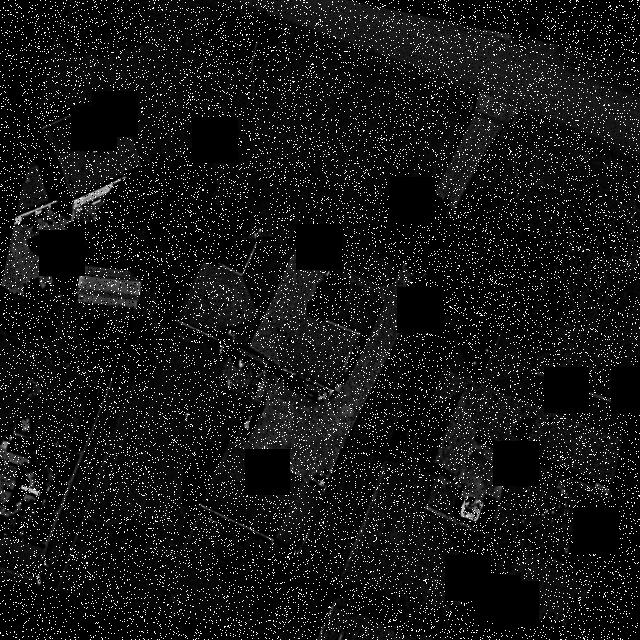Driveway: (234, 115, 503, 481)
Extra Driveway: (475, 93, 518, 121)
Extra Lawn: (283, 22, 476, 107), (512, 108, 547, 133)
Extra Sidewalk: (337, 266, 391, 300)
House: (178, 235, 361, 399)
Other: (200, 444, 322, 546), (216, 350, 278, 402)
